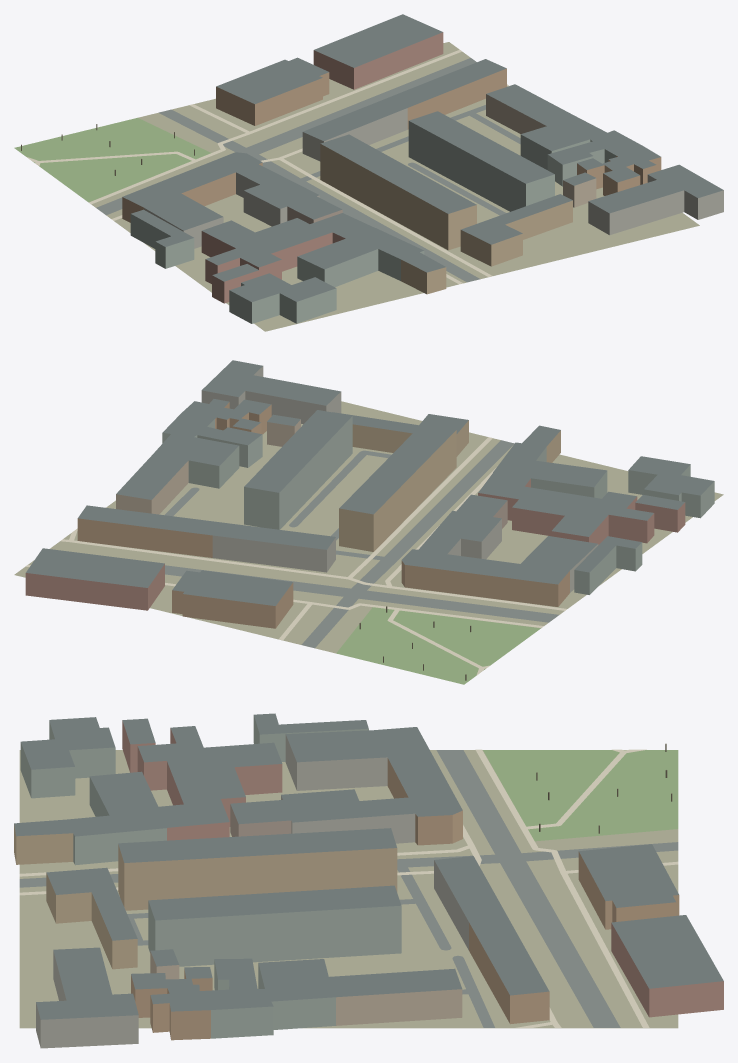
File: sector-2_-4.glb
The picture shows the model from 3 angles, top to bottom: view 1: azimuth 30°, elevation 25°; view 2: azimuth 150°, elevation 25°; view 3: azimuth 270°, elevation 25°; orthographic projection. The views are drawn at different scales.
Parts seen in each view (by area): view 1: 2:-4-facade, 2:-4-roof, 2:-4-ground, 2:-4-park, 2:-4-road, 2:-4-paving; view 2: 2:-4-roof, 2:-4-facade, 2:-4-ground, 2:-4-park, 2:-4-road, 2:-4-paving; view 3: 2:-4-roof, 2:-4-facade, 2:-4-ground, 2:-4-park, 2:-4-road, 2:-4-paving.
Boxes of the visible parts, box(x1,y1,x2,y2) form: 2:-4-facade: box(122, 32, 723, 323); 2:-4-roof: box(122, 14, 723, 301); 2:-4-ground: box(91, 42, 699, 331); 2:-4-park: box(14, 117, 210, 202); 2:-4-road: box(96, 58, 520, 282); 2:-4-paving: box(27, 49, 508, 284); 2:-4-roof: box(26, 360, 713, 605); 2:-4-facade: box(25, 366, 714, 628); 2:-4-ground: box(14, 401, 723, 653); 2:-4-park: box(336, 607, 540, 684); 2:-4-road: box(164, 440, 558, 648); 2:-4-paving: box(25, 437, 566, 675); 2:-4-roof: box(14, 713, 723, 1019); 2:-4-facade: box(14, 715, 723, 1048); 2:-4-ground: box(19, 750, 678, 1028); 2:-4-park: box(483, 750, 678, 841); 2:-4-road: box(19, 750, 678, 1027); 2:-4-paving: box(19, 749, 678, 1027).
Bounding box in the file's own units: 220 × 16 × 216.
